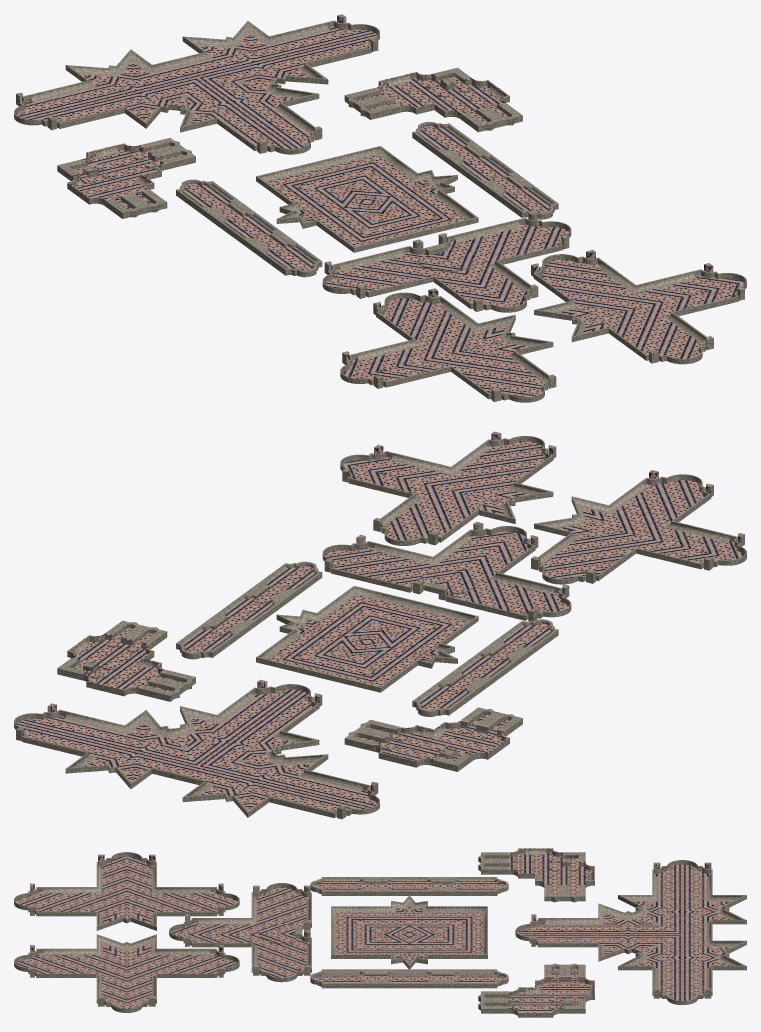
File: PH_MOD_FountainComplex-A.FBX
3 renders of one model, top to bottom at view 1: azimuth 30°, elevation 25°; view 2: azimuth 150°, elevation 25°; view 3: azimuth 270°, elevation 25°, orthographic. The views are drawn at different scales.
Visible parts, largest first — view 1: PH_FountainComplex-BIG-A; view 2: PH_FountainComplex-BIG-A; view 3: PH_FountainComplex-BIG-A.
Part boxes in pixels (bbox=[...]): PH_FountainComplex-BIG-A: bbox=[14, 14, 746, 402]; PH_FountainComplex-BIG-A: bbox=[14, 431, 746, 819]; PH_FountainComplex-BIG-A: bbox=[14, 848, 746, 1017].
Bounding box in the file's own units: 8543 × 297 × 16080.
